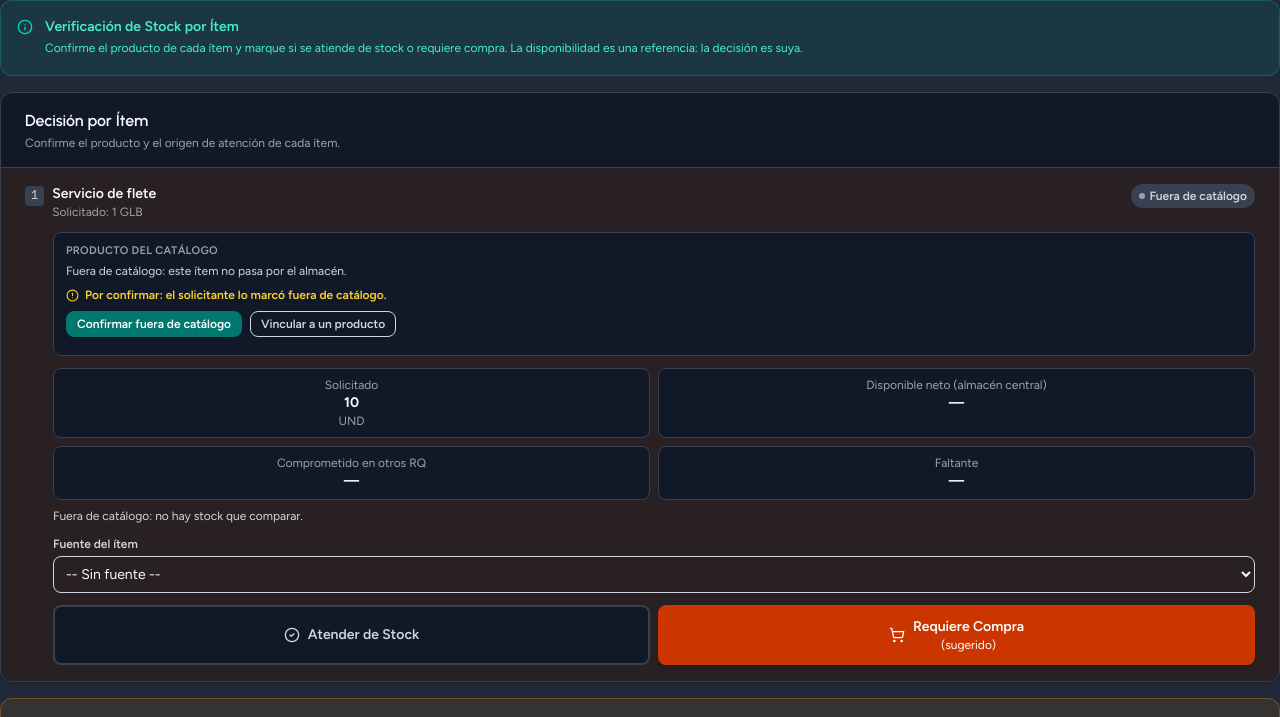
Scenario: StockCheckPanel — el foco no cae al <body> al resolver un ítem › tras "Confirmar fuera de catálogo" el foco queda en un control del mismo ítem
Click the button with aria-label "Confirmar el ítem 1 como fuera de catálogo" at {"x": 154, "y": 324}, box [66,311,242,337]
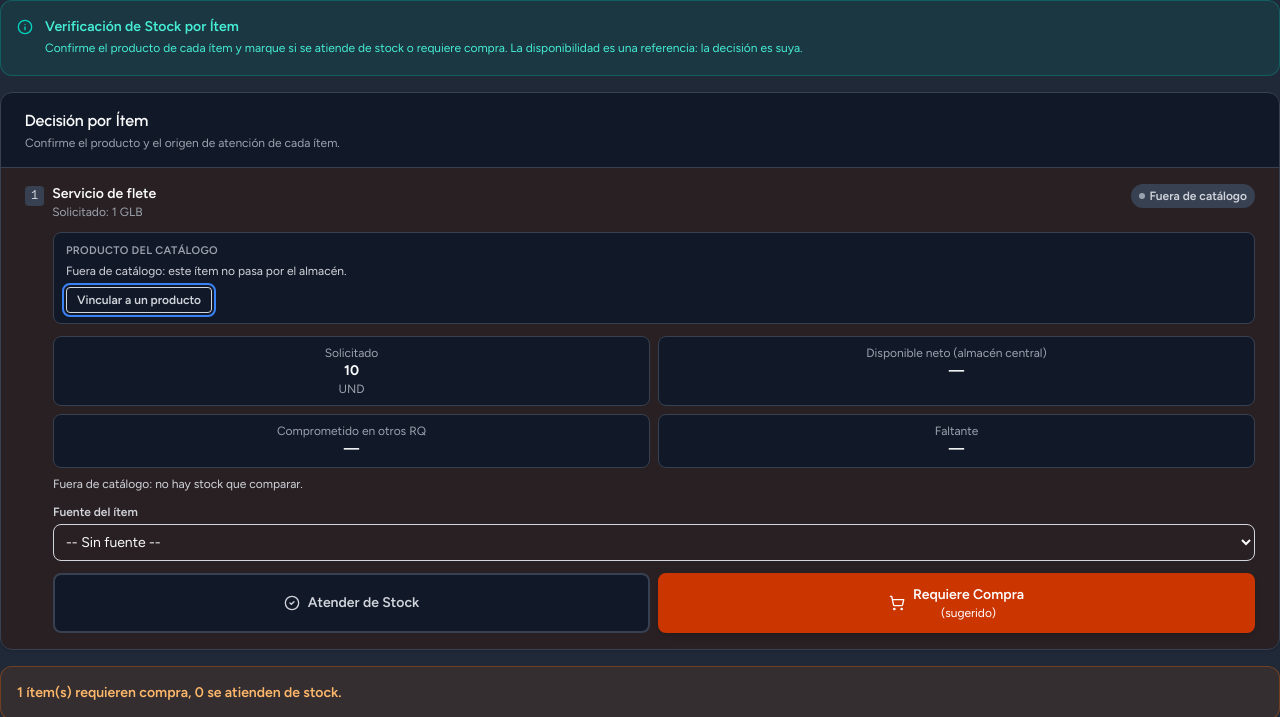
Check: the text "Por confirmar" is gone
